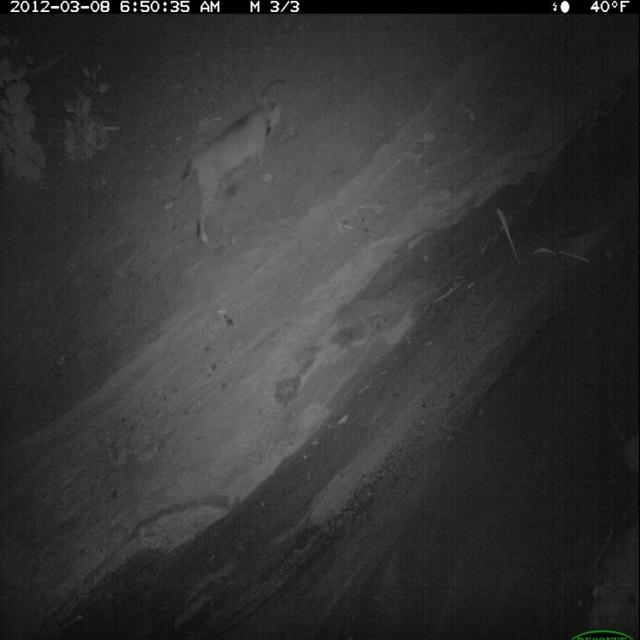bobcat: (178, 89, 288, 248)
